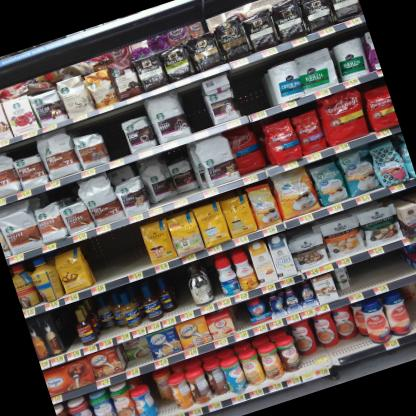empty_space: (87, 230, 149, 286), (233, 70, 278, 118), (181, 85, 215, 135), (99, 118, 130, 164), (377, 251, 408, 283), (350, 260, 379, 294)
